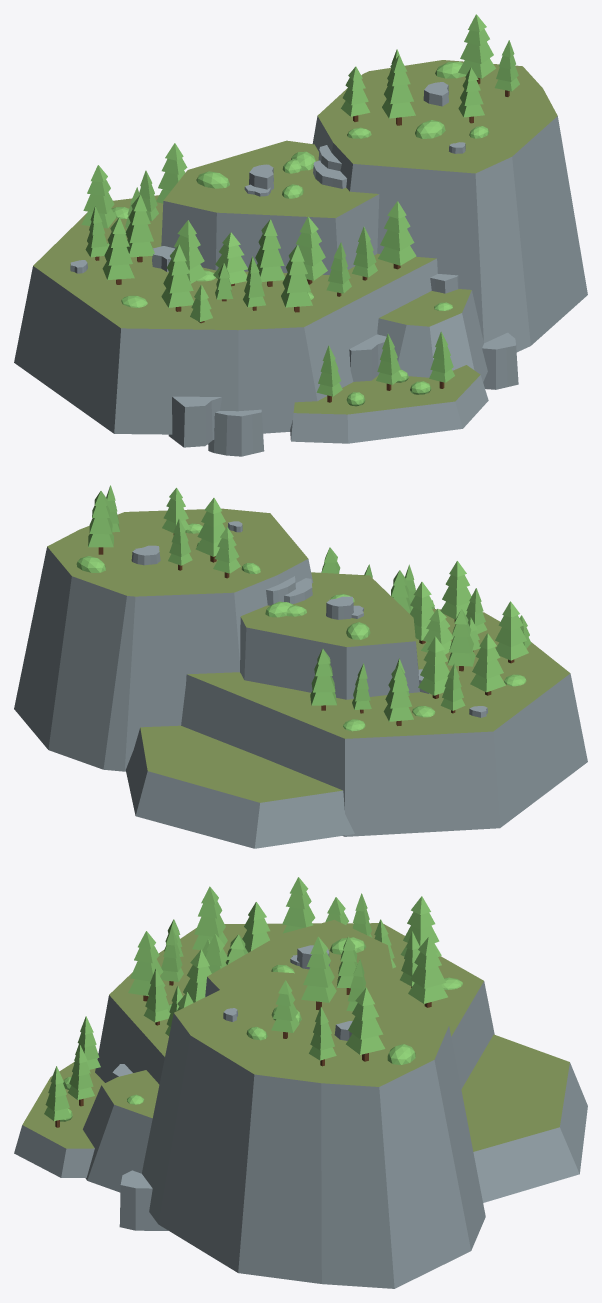
File: Mountain1.fbx
3 renders of one model, top to bottom at view 1: azimuth 30°, elevation 25°; view 2: azimuth 150°, elevation 25°; view 3: azimuth 270°, elevation 25°, orthographic. The views are drawn at different scales.
Visible parts, largest first — view 1: Cube.639; view 2: Cube.639; view 3: Cube.639.
Boxes of the visible parts, box(x1,y1,x2,y2) form: Cube.639: box(14, 14, 587, 456); Cube.639: box(14, 485, 587, 848); Cube.639: box(14, 877, 587, 1288).
Bounding box in the file's own units: 4650 × 2225 × 4165.
